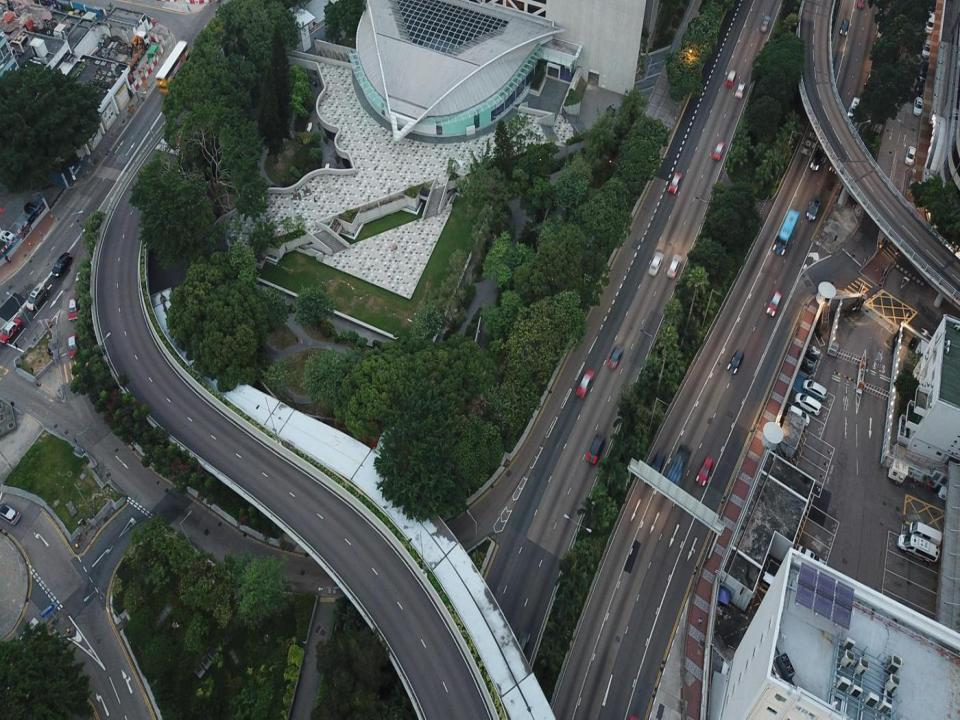bus: (155, 41, 192, 94), (662, 445, 691, 494), (772, 209, 798, 252)
car: (797, 544, 827, 569), (585, 433, 605, 465), (0, 319, 21, 345), (576, 368, 594, 398), (695, 457, 714, 485), (788, 404, 810, 426), (49, 253, 73, 273), (608, 346, 625, 371), (648, 251, 664, 275), (24, 200, 45, 218), (728, 350, 744, 373), (766, 292, 781, 316), (67, 332, 79, 361), (807, 198, 822, 221), (810, 146, 823, 171), (848, 95, 860, 122), (0, 229, 19, 246), (68, 296, 79, 323), (668, 255, 681, 277), (905, 144, 918, 166), (669, 172, 682, 193), (734, 80, 747, 100), (713, 143, 724, 159), (914, 95, 923, 114), (725, 68, 735, 85), (760, 15, 771, 30), (841, 19, 849, 35)
van: (897, 531, 941, 562), (908, 521, 943, 545), (646, 449, 666, 488), (795, 389, 822, 413), (25, 283, 47, 309), (802, 378, 830, 398), (0, 503, 20, 528), (918, 58, 929, 83), (922, 33, 931, 57), (926, 12, 935, 30)
